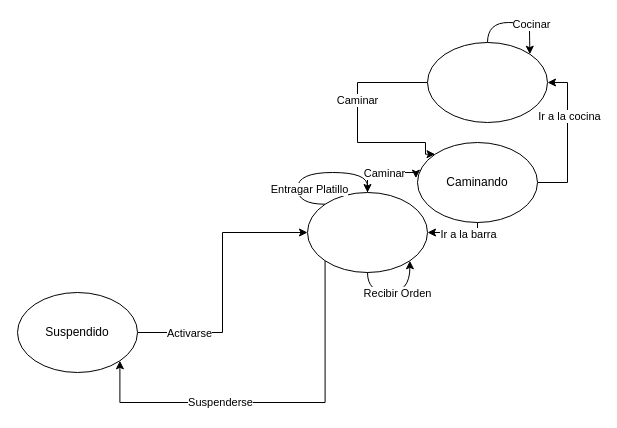
This 617x428 diagram has some shape labels left out. Each missing label, with the box of its shape:
Atendiendo: (306, 192, 428, 272)
Cocinando: (426, 42, 548, 122)
